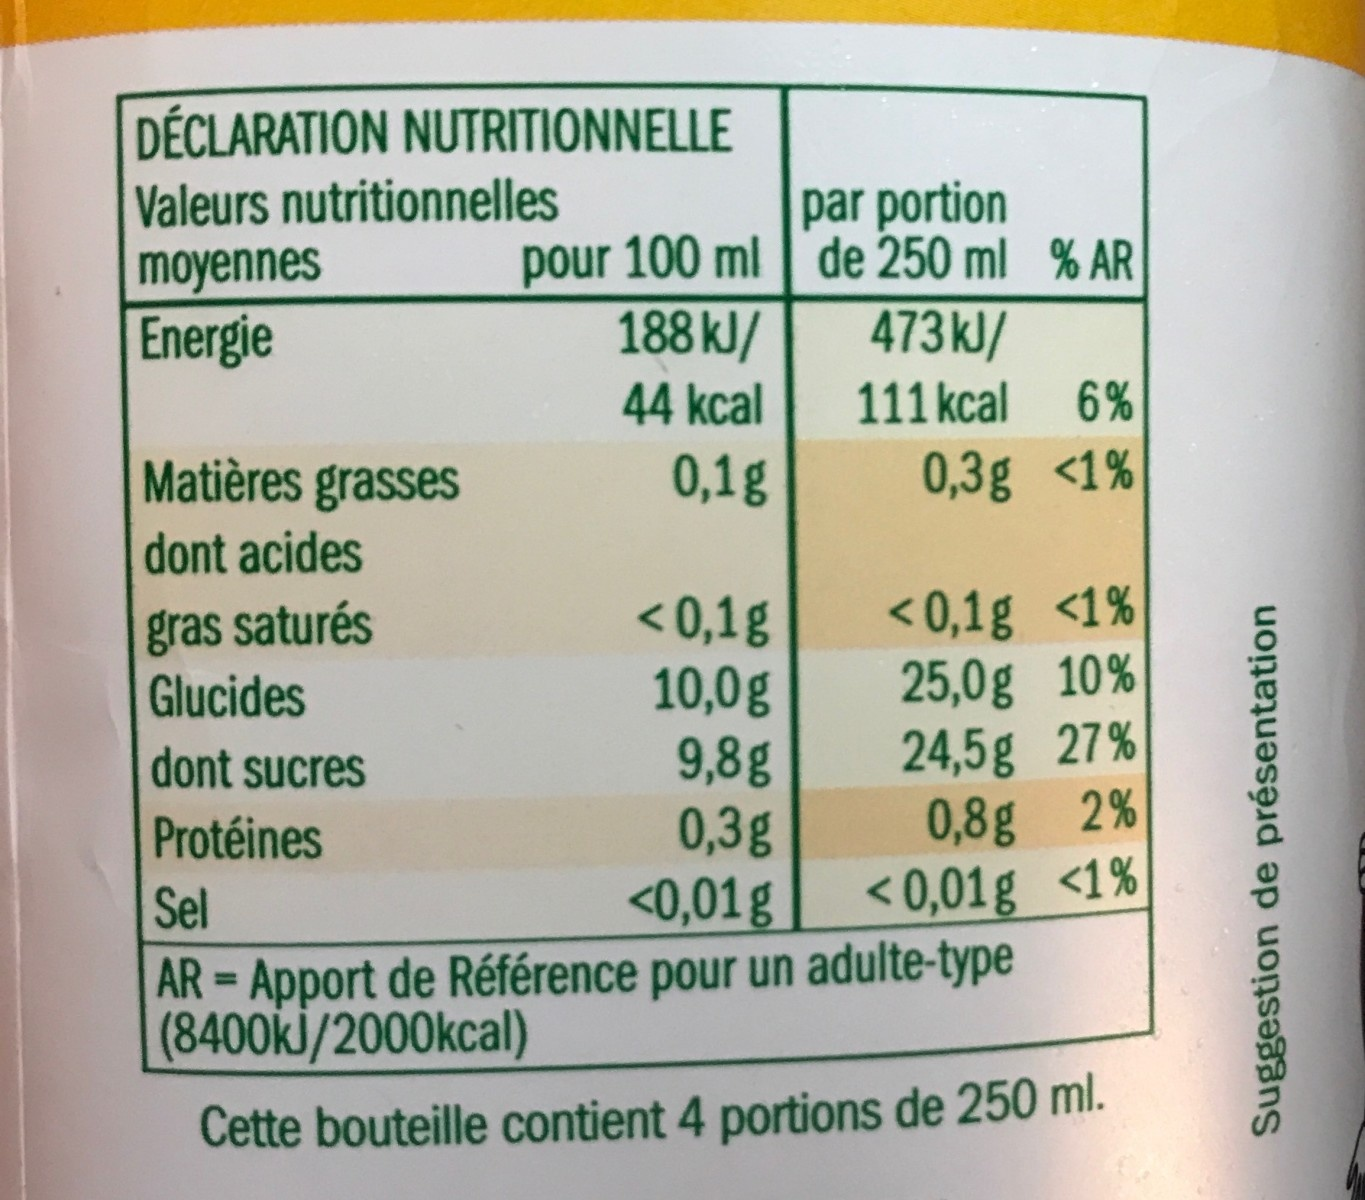column: (128, 311, 461, 925), (519, 236, 772, 925), (801, 169, 1020, 915), (1037, 178, 1139, 915)
table: (121, 94, 1157, 942)
